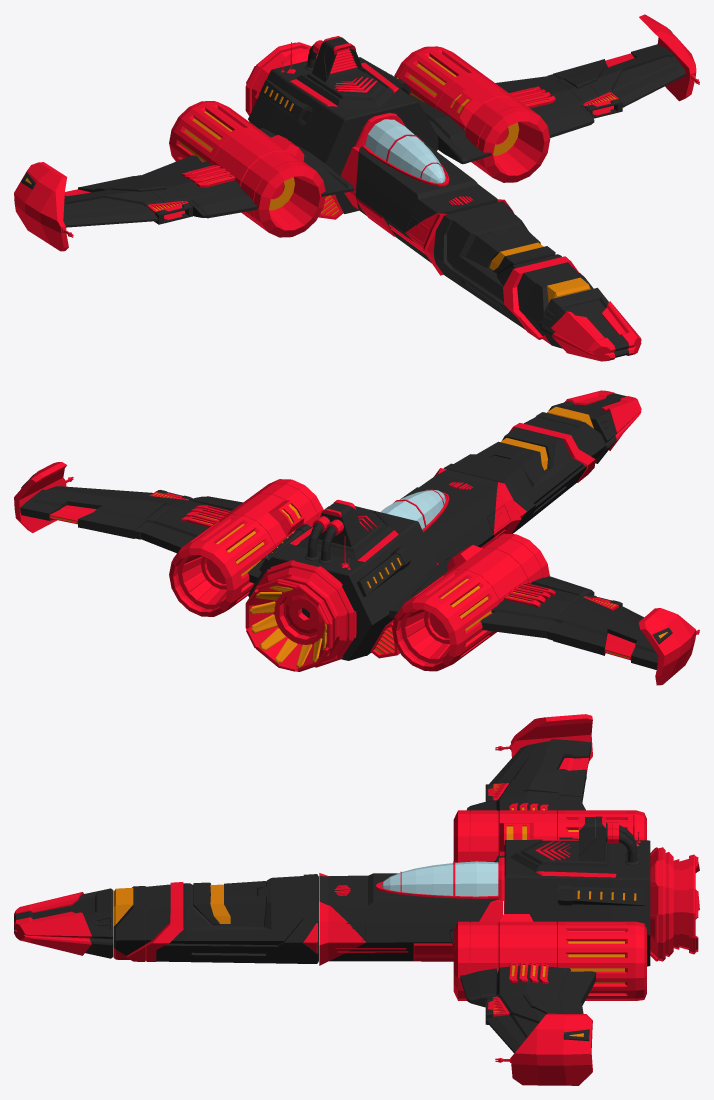
File: Spaceship.fbx
3 views of the same model, one above another, from view 1: azimuth 30°, elevation 25°; view 2: azimuth 150°, elevation 25°; view 3: azimuth 270°, elevation 25° (orthographic).
Visible parts, largest first — view 1: Plane.004; view 2: Plane.004; view 3: Plane.004.
Boxes of the visible parts, x1=… form: Plane.004: x1=14, y1=14, x2=699, y2=361; Plane.004: x1=14, y1=390, x2=699, y2=685; Plane.004: x1=14, y1=714, x2=699, y2=1085.
Bounding box in the file's own units: 303 × 59.96 × 269.
